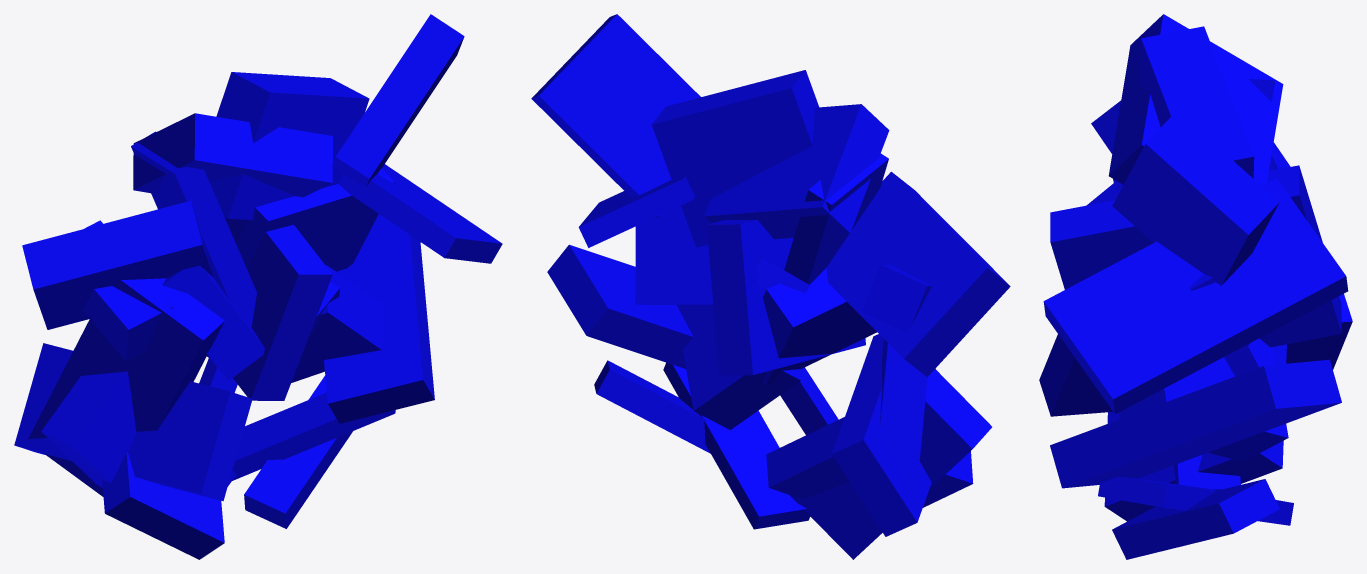
Rendered from test.layouter.randomBoxes.gltf.
The picture shows the model from 3 angles, left to right: view 1: azimuth 30°, elevation 25°; view 2: azimuth 150°, elevation 25°; view 3: azimuth 270°, elevation 25°; orthographic projection. The views are drawn at different scales.
Visible parts, largest first — view 1: shape_5, shape_19, shape_11, shape_17, shape_18, shape_8, shape_2, shape_4, shape_1, shape_0, shape_9, shape_16 (+7 smaller); view 2: shape_19, shape_4, shape_2, shape_18, shape_8, shape_5, shape_1, shape_11, shape_10, shape_12, shape_13, shape_9 (+8 smaller); view 3: shape_16, shape_5, shape_4, shape_8, shape_2, shape_18, shape_14, shape_11, shape_13, shape_0, shape_10, shape_1 (+2 smaller).
Part boxes in pixels (left/top/right/bottom): shape_5: left=324, top=214, right=434, bottom=423; shape_19: left=22, top=200, right=213, bottom=329; shape_11: left=14, top=343, right=252, bottom=501; shape_17: left=28, top=278, right=224, bottom=496; shape_18: left=133, top=113, right=332, bottom=197; shape_8: left=224, top=217, right=332, bottom=400; shape_2: left=209, top=72, right=369, bottom=220; shape_4: left=333, top=14, right=464, bottom=186; shape_1: left=41, top=371, right=236, bottom=487; shape_0: left=102, top=452, right=224, bottom=559; shape_9: left=236, top=168, right=394, bottom=271; shape_16: left=338, top=164, right=502, bottom=263; shape_19: left=826, top=171, right=1010, bottom=377; shape_4: left=531, top=14, right=700, bottom=218; shape_2: left=652, top=70, right=818, bottom=247; shape_18: left=704, top=104, right=889, bottom=239; shape_8: left=706, top=220, right=865, bottom=375; shape_5: left=547, top=244, right=693, bottom=368; shape_1: left=789, top=369, right=991, bottom=559; shape_11: left=832, top=334, right=931, bottom=536; shape_10: left=663, top=362, right=810, bottom=529; shape_12: left=763, top=268, right=876, bottom=386; shape_13: left=676, top=304, right=800, bottom=429; shape_9: left=635, top=205, right=713, bottom=304; shape_16: left=1043, top=178, right=1348, bottom=414; shape_5: left=1050, top=359, right=1341, bottom=488; shape_4: left=1112, top=111, right=1279, bottom=285; shape_8: left=1050, top=165, right=1341, bottom=347; shape_2: left=1139, top=26, right=1254, bottom=178; shape_18: left=1108, top=14, right=1283, bottom=185; shape_14: left=1112, top=479, right=1279, bottom=559; shape_11: left=1039, top=293, right=1352, bottom=416; shape_13: left=1118, top=338, right=1288, bottom=461; shape_0: left=1104, top=344, right=1286, bottom=521; shape_10: left=1098, top=476, right=1293, bottom=525; shape_1: left=1174, top=454, right=1240, bottom=490.
Bounding box in the file's own units: 142 × 142 × 71.7.
